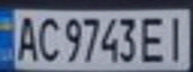3: (115, 13, 142, 64)
4: (100, 15, 121, 63)
7: (78, 14, 100, 63)
9: (60, 14, 84, 63)
A: (12, 11, 39, 63)
C: (33, 12, 60, 63)
E: (139, 12, 172, 63)
I: (163, 11, 193, 63)
